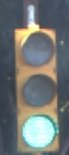Green: (14, 28, 62, 147)
